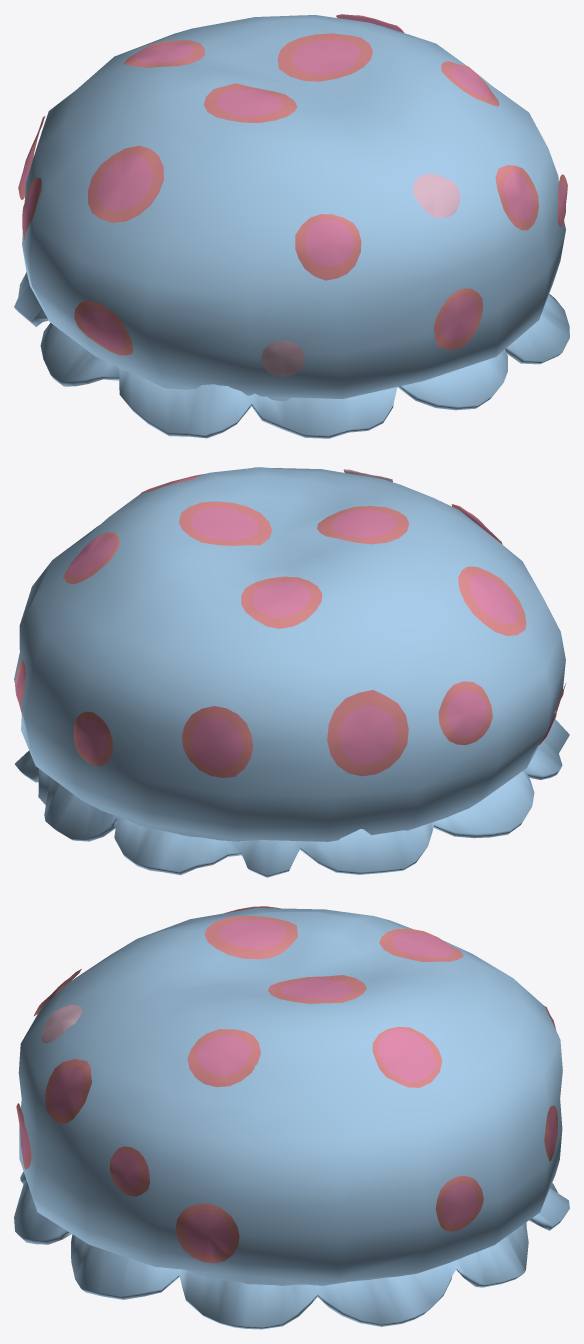
Rendered from ShowerCap.fbx.
3 views of the same model, one above another, from view 1: azimuth 30°, elevation 25°; view 2: azimuth 150°, elevation 25°; view 3: azimuth 270°, elevation 25° (orthographic).
Visible parts, largest first — view 1: ShowerCap; view 2: ShowerCap; view 3: ShowerCap.
Part boxes in pixels (box(x1,y1,x2,y2)): ShowerCap: box(14, 14, 569, 438); ShowerCap: box(14, 467, 569, 877); ShowerCap: box(14, 906, 569, 1329).
Size of the model in its own units: 81.96 by 43.01 by 81.86.
